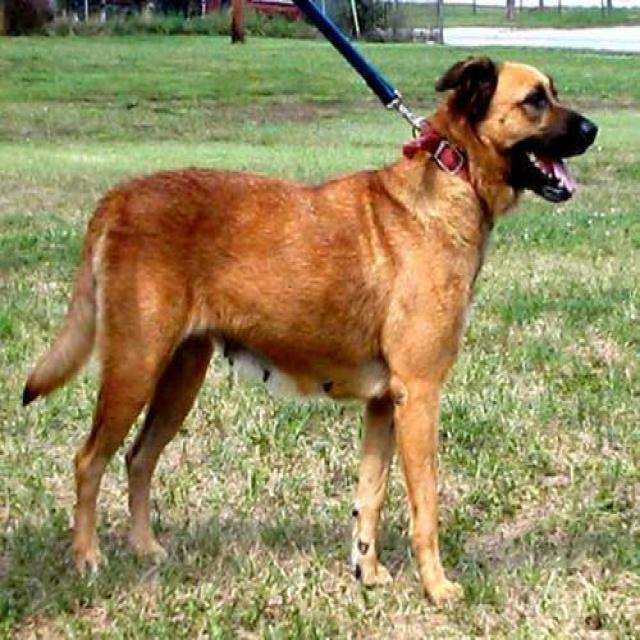dogs: (33, 44, 607, 593)
